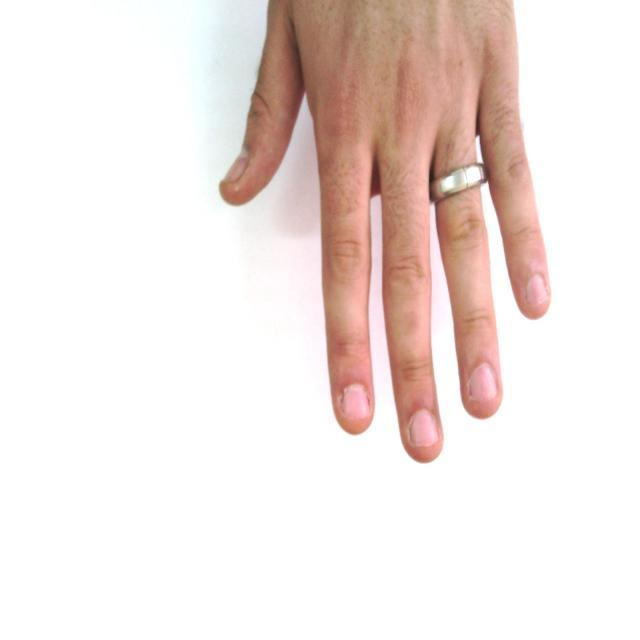Fingernail: (411, 411, 440, 448), (469, 365, 498, 402), (342, 386, 369, 420), (223, 150, 249, 181), (526, 275, 549, 305)
